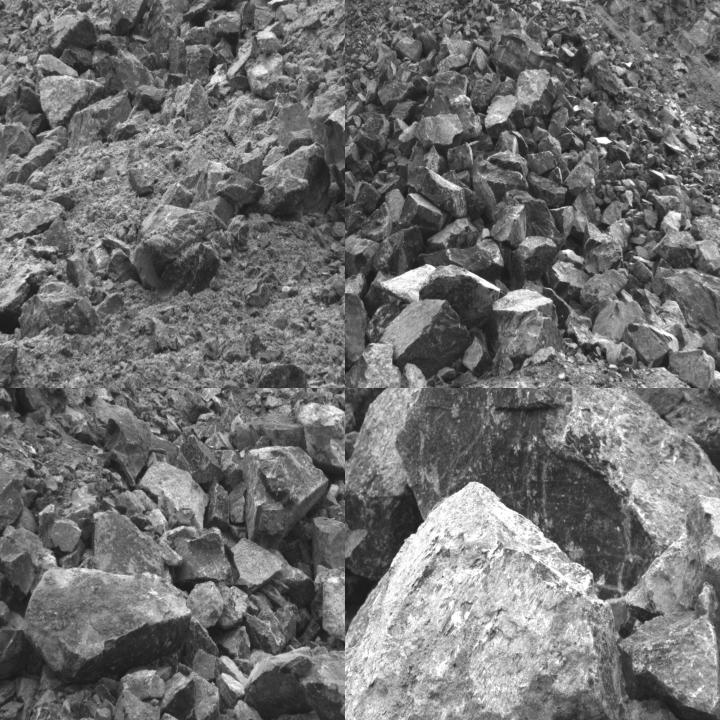stone: (395, 388, 719, 601), (345, 480, 631, 719), (617, 581, 719, 719), (132, 206, 226, 291), (382, 300, 471, 375), (486, 286, 563, 359), (422, 264, 501, 327), (261, 142, 330, 214), (192, 161, 266, 228), (137, 461, 209, 528), (66, 90, 140, 149), (104, 406, 152, 488), (155, 243, 219, 304), (297, 400, 344, 476), (38, 75, 104, 129), (420, 239, 505, 280), (492, 31, 557, 79), (345, 340, 407, 387), (473, 157, 525, 212), (409, 169, 468, 217), (371, 226, 424, 278), (46, 7, 97, 55), (397, 190, 450, 236), (511, 235, 557, 288), (623, 324, 678, 367), (177, 435, 222, 483), (583, 220, 622, 274), (259, 173, 307, 214), (582, 51, 624, 97), (490, 195, 526, 248), (668, 349, 717, 387), (518, 68, 556, 117), (652, 230, 699, 269), (581, 267, 631, 303), (66, 482, 98, 538), (413, 113, 464, 148), (237, 363, 310, 387), (244, 52, 283, 96), (244, 613, 285, 654), (547, 262, 590, 301), (353, 113, 390, 158), (428, 218, 480, 250), (563, 150, 599, 196), (485, 94, 523, 137), (0, 466, 25, 531), (0, 121, 36, 163), (345, 295, 366, 367), (526, 171, 568, 207), (63, 296, 102, 334), (345, 234, 378, 278), (191, 672, 221, 719), (186, 78, 212, 132), (572, 179, 597, 235), (461, 336, 494, 376), (377, 78, 418, 110), (34, 54, 80, 82), (107, 0, 146, 33), (64, 248, 96, 288), (182, 43, 212, 85), (690, 214, 719, 256), (469, 73, 501, 111), (360, 203, 392, 241), (206, 11, 243, 43), (105, 248, 139, 282), (434, 69, 469, 101), (133, 83, 166, 114), (595, 101, 626, 134), (325, 488, 344, 538), (693, 239, 719, 273), (352, 181, 379, 212), (276, 604, 297, 643), (607, 217, 631, 251), (194, 413, 226, 438), (395, 36, 423, 64), (525, 151, 557, 175), (446, 143, 474, 170), (127, 168, 154, 195), (60, 541, 86, 568), (400, 362, 428, 387), (112, 120, 142, 142), (548, 106, 569, 137), (288, 128, 313, 154), (630, 260, 656, 284), (256, 30, 280, 55), (602, 202, 626, 226), (254, 8, 276, 31), (346, 211, 368, 234), (30, 171, 47, 191), (345, 168, 354, 202)
